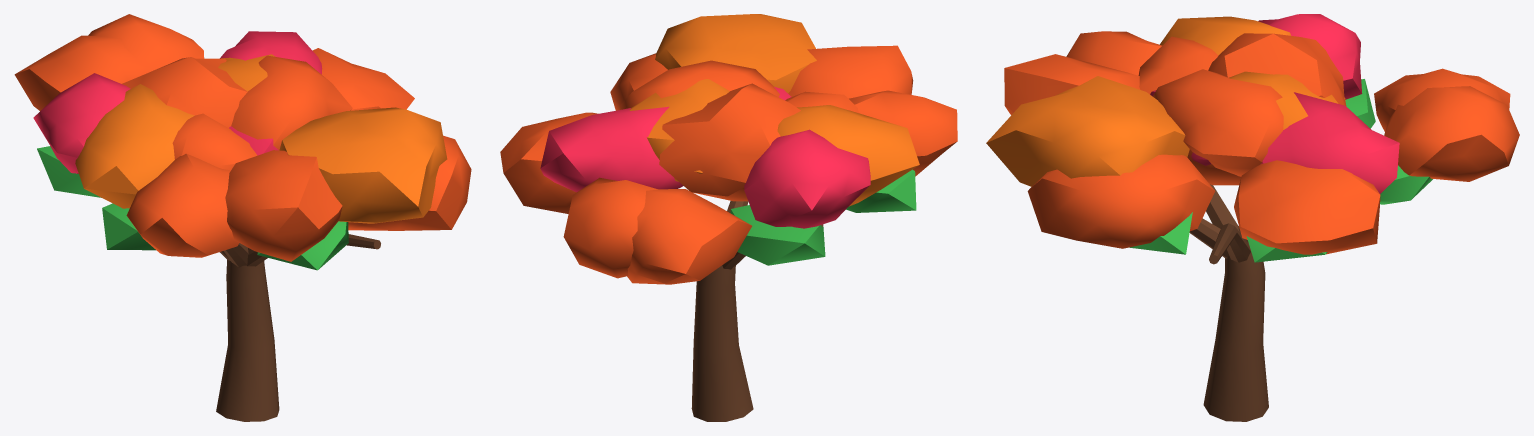
The model's file is lobby_flamboyan.obj.
3 renders of one model, left to right at view 1: azimuth 30°, elevation 25°; view 2: azimuth 150°, elevation 25°; view 3: azimuth 270°, elevation 25°, orthographic. The views are drawn at different scales.
Parts seen in each view (by area): view 1: lobby_flamboyan; view 2: lobby_flamboyan; view 3: lobby_flamboyan.
Part boxes in pixels (left/top/right/bottom): lobby_flamboyan: left=14, top=14, right=471, bottom=421; lobby_flamboyan: left=500, top=14, right=957, bottom=421; lobby_flamboyan: left=986, top=14, right=1519, bottom=421.
Bounding box in the file's own units: 14.55 × 13.24 × 17.97.
1 material, 1 textured.
